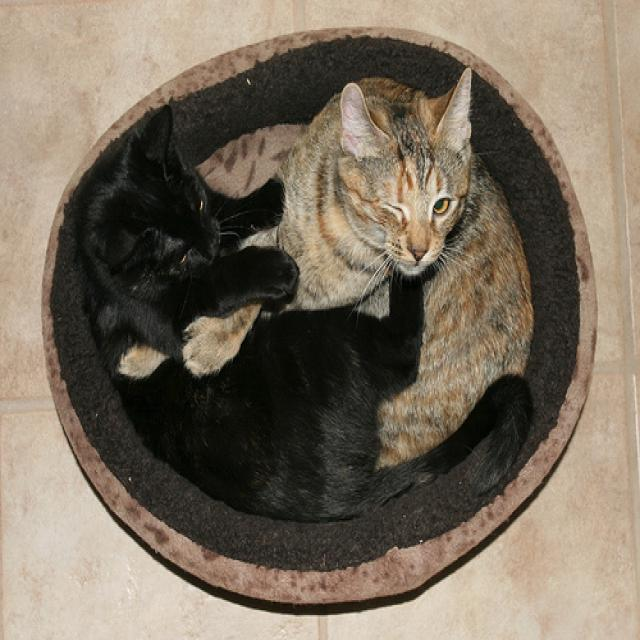left eye: (430, 193, 452, 216)
